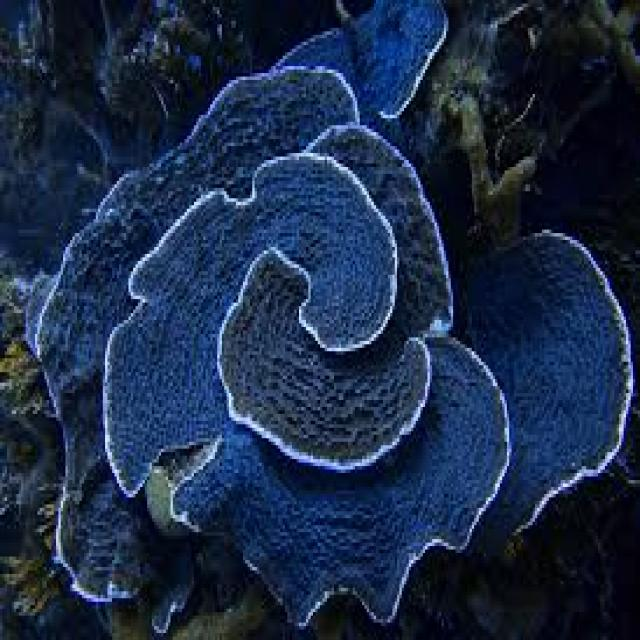Coral: (23, 1, 634, 636)
